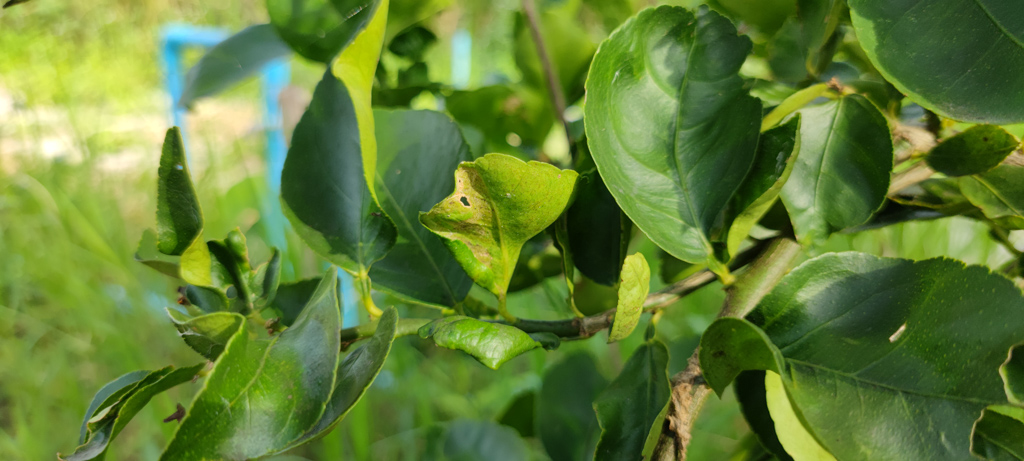Leaf Curl Disease: (413, 314, 559, 374)
